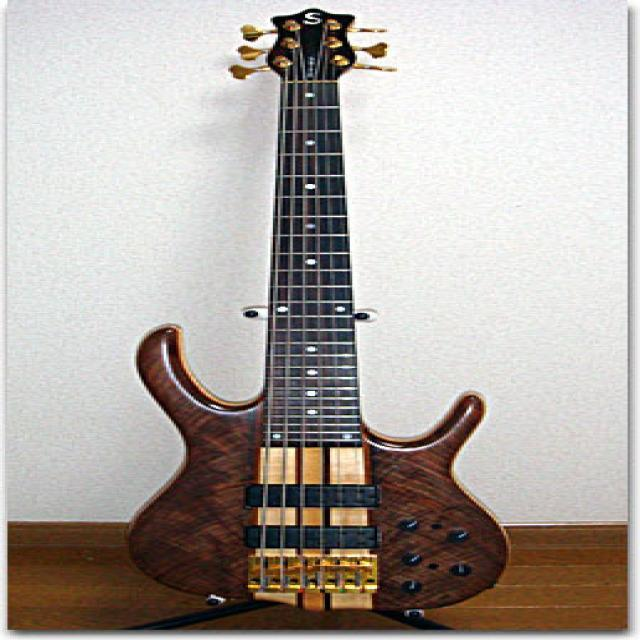bass: (128, 9, 506, 609)
